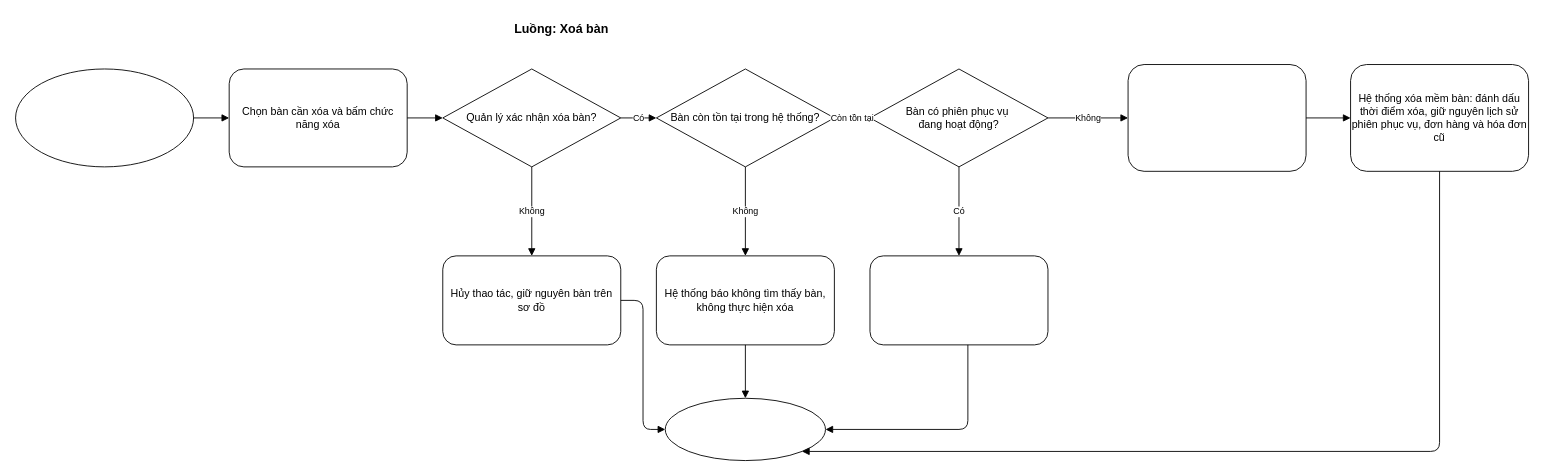
This 1544x476 diagram has some shape labels left out. The centre of each missing label's shape, as x and y in pixels:
"Hệ thống thu hồi mã QR đang hoạt động của bàn với lý do bàn bị xóa" goes at [1216,117].
"Hệ thống từ chối xóa: bàn đang có phiên phục vụ, cần đóng phiên trước" goes at [958,300].
"Kết thúc" goes at [744,429].
"Quản lý mở màn hình sơ đồ bàn và khu vực" goes at [104,117].
